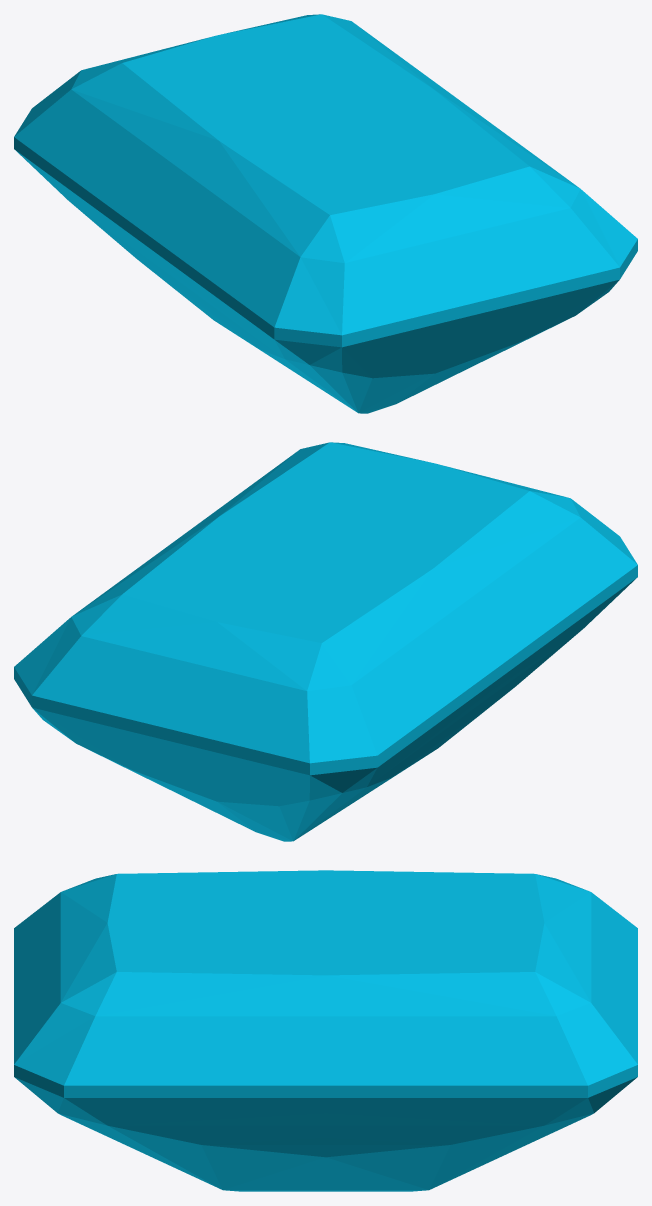
Rendered from Head_Single Halo_Radiant_0.75ct_Diamond.glb.
3 renders of one model, top to bottom at view 1: azimuth 30°, elevation 25°; view 2: azimuth 150°, elevation 25°; view 3: azimuth 270°, elevation 25°, orthographic.
Size of the model in its own units: 0.00425 by 0.00299 by 0.00628.
